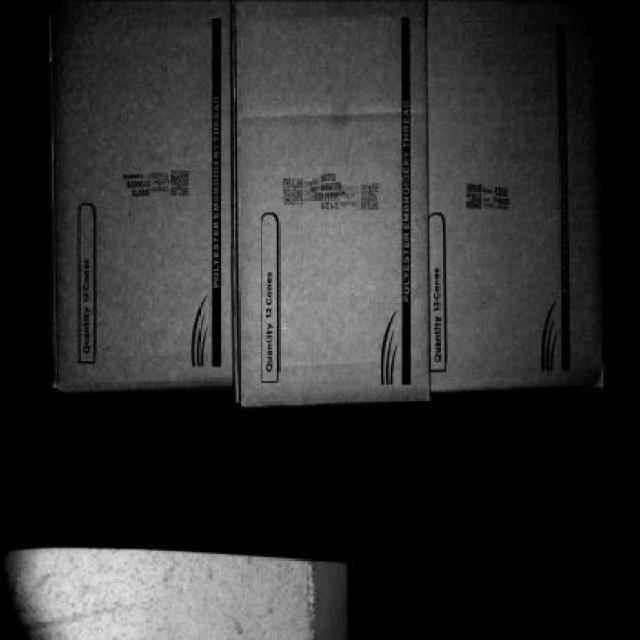box: (236, 12, 429, 402), (53, 12, 235, 380), (431, 11, 607, 390)
